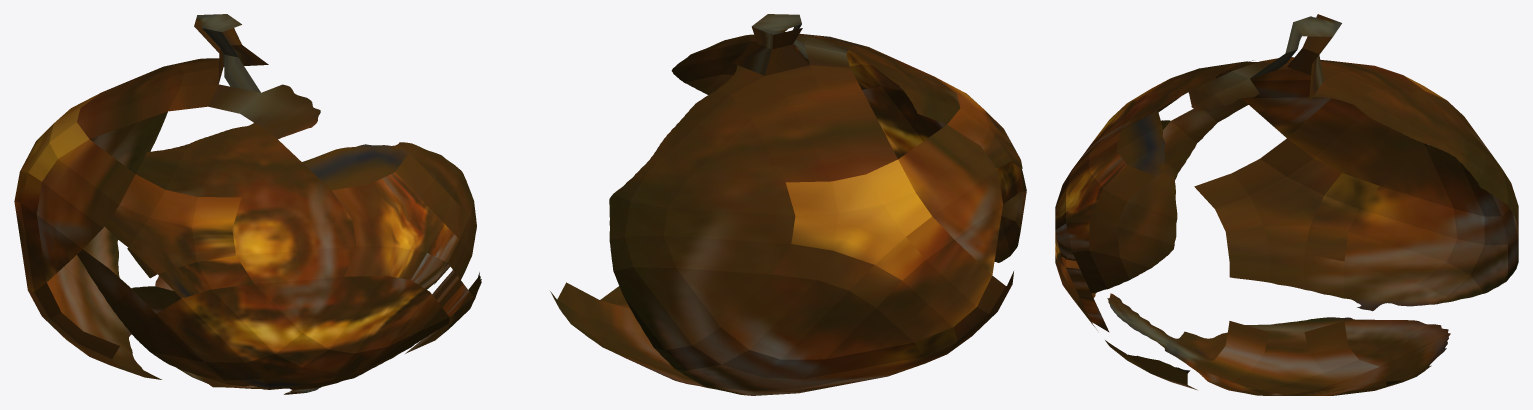
Rendered from PUMP.fbx.
The picture shows the model from 3 angles, left to right: view 1: azimuth 30°, elevation 25°; view 2: azimuth 150°, elevation 25°; view 3: azimuth 270°, elevation 25°; orthographic projection. The views are drawn at different scales.
Parts seen in each view (by area): view 1: Icosphere.001; view 2: Icosphere.001; view 3: Icosphere.001.
Part boxes in pixels (x1=…): Icosphere.001: x1=14, y1=14, x2=481, y2=394; Icosphere.001: x1=550, y1=14, x2=1026, y2=395; Icosphere.001: x1=1055, y1=14, x2=1518, y2=395.
Size of the model in its own units: 30.17 by 23.48 by 29.64.
1 material, 1 textured.
